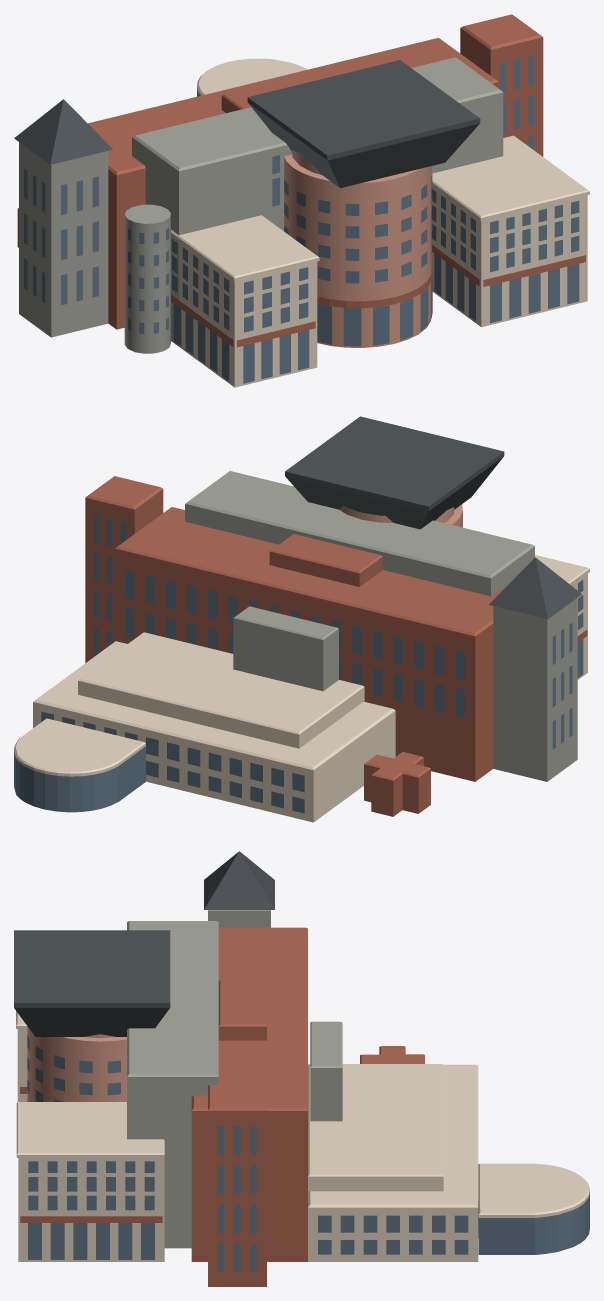
File: den-central-library.glb
The picture shows the model from 3 angles, top to bottom: view 1: azimuth 30°, elevation 25°; view 2: azimuth 150°, elevation 25°; view 3: azimuth 270°, elevation 25°; orthographic projection. The views are drawn at different scales.
Visible parts, largest first — view 1: Denver Central Library; view 2: Denver Central Library; view 3: Denver Central Library.
Boxes of the visible parts, <box> form: Denver Central Library: <box>14,14,589,387</box>; Denver Central Library: <box>14,416,589,822</box>; Denver Central Library: <box>14,851,589,1286</box>.
Bounding box in the file's own units: 104 × 44 × 107.
